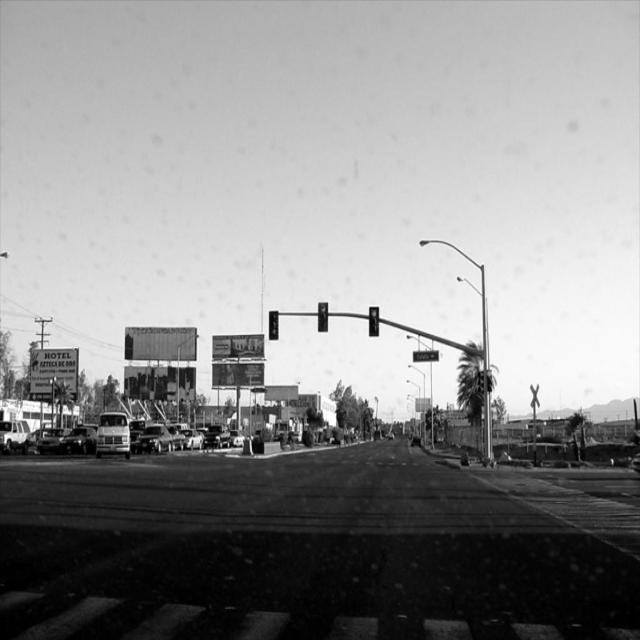traffic light: (317, 302, 328, 334), (369, 306, 379, 337), (268, 310, 278, 338)
